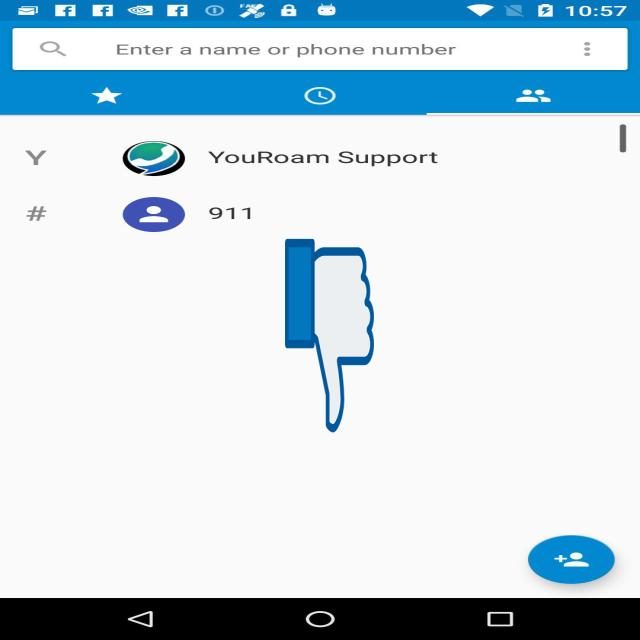obstruction: (285, 234, 374, 436)
